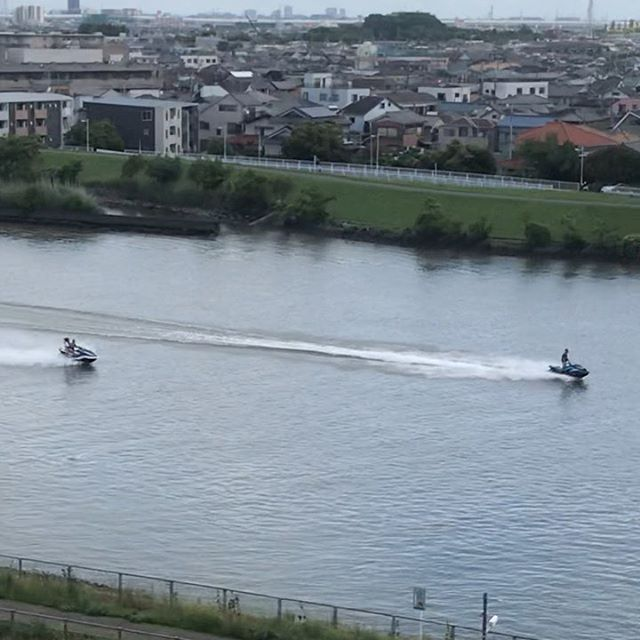building: (76, 89, 207, 169), (508, 122, 616, 207), (182, 92, 259, 162), (264, 103, 350, 163), (1, 91, 72, 150), (361, 106, 419, 166), (431, 118, 490, 176)
river: (1, 221, 640, 640)
